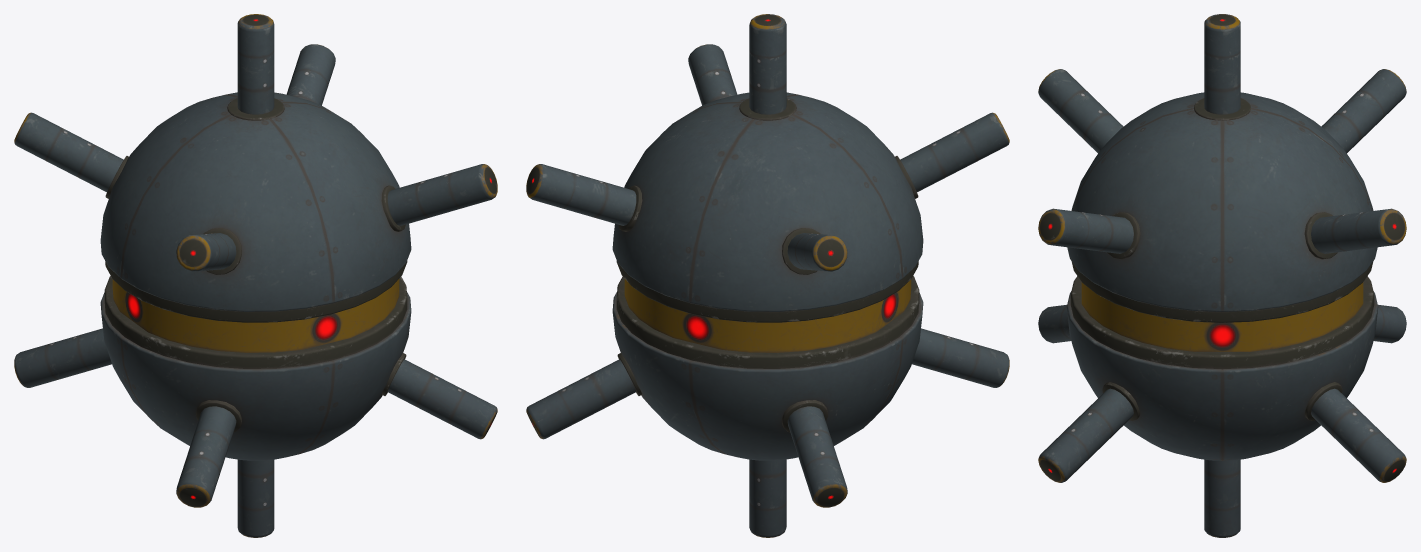
File: Bomb_1.fbx
The picture shows the model from 3 angles, left to right: view 1: azimuth 30°, elevation 25°; view 2: azimuth 150°, elevation 25°; view 3: azimuth 270°, elevation 25°; orthographic projection.
Parts seen in each view (by area): view 1: Bomb_1; view 2: Bomb_1; view 3: Bomb_1.
Part boxes in pixels (x1,y1,x2,y2): Bomb_1: [14, 14, 497, 537]; Bomb_1: [526, 14, 1009, 537]; Bomb_1: [1038, 14, 1406, 537].
Bounding box in the file's own units: 61.1 × 93.61 × 61.13.
